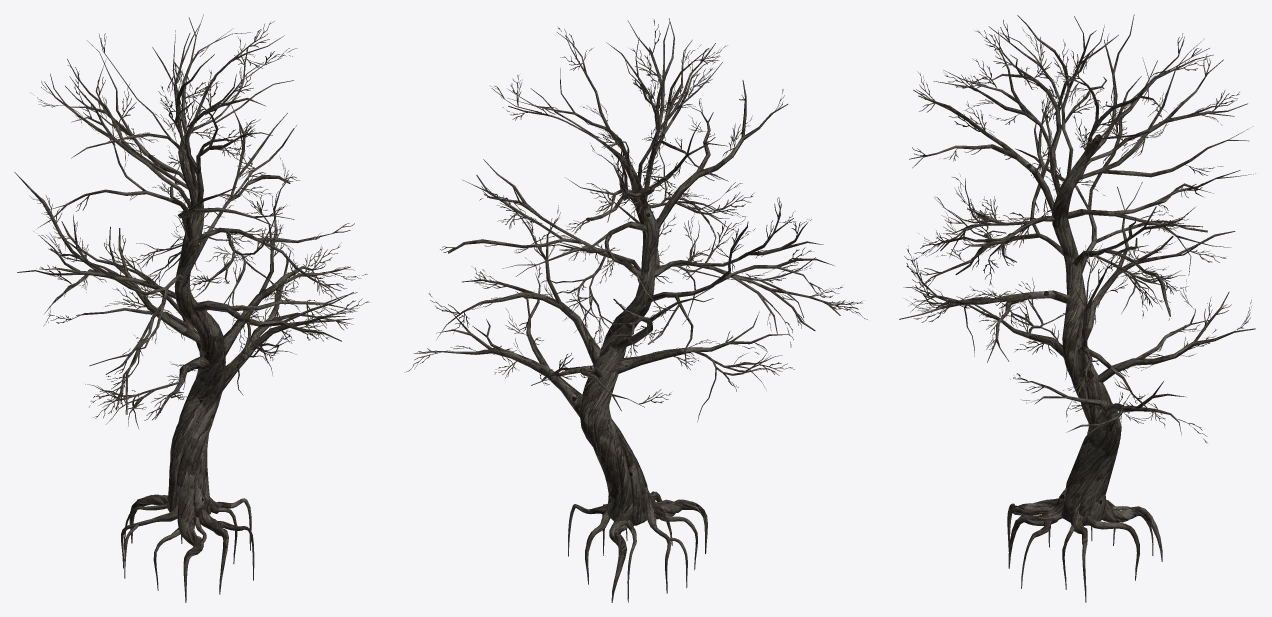
Rendered from Tree1-3-Empty.fbx.
The picture shows the model from 3 angles, left to right: view 1: azimuth 30°, elevation 25°; view 2: azimuth 150°, elevation 25°; view 3: azimuth 270°, elevation 25°; orthographic projection. The views are drawn at different scales.
Visible parts, largest first — view 1: Tree1-3-Empty_LOD0; view 2: Tree1-3-Empty_LOD0; view 3: Tree1-3-Empty_LOD0.
Boxes of the visible parts, left/top/right/bottom form: Tree1-3-Empty_LOD0: left=14, top=14, right=370, bottom=602; Tree1-3-Empty_LOD0: left=404, top=18, right=867, bottom=602; Tree1-3-Empty_LOD0: left=899, top=14, right=1255, bottom=602.
Size of what is drawn, in the model's own units: 9.89 by 8.4 by 14.29.
